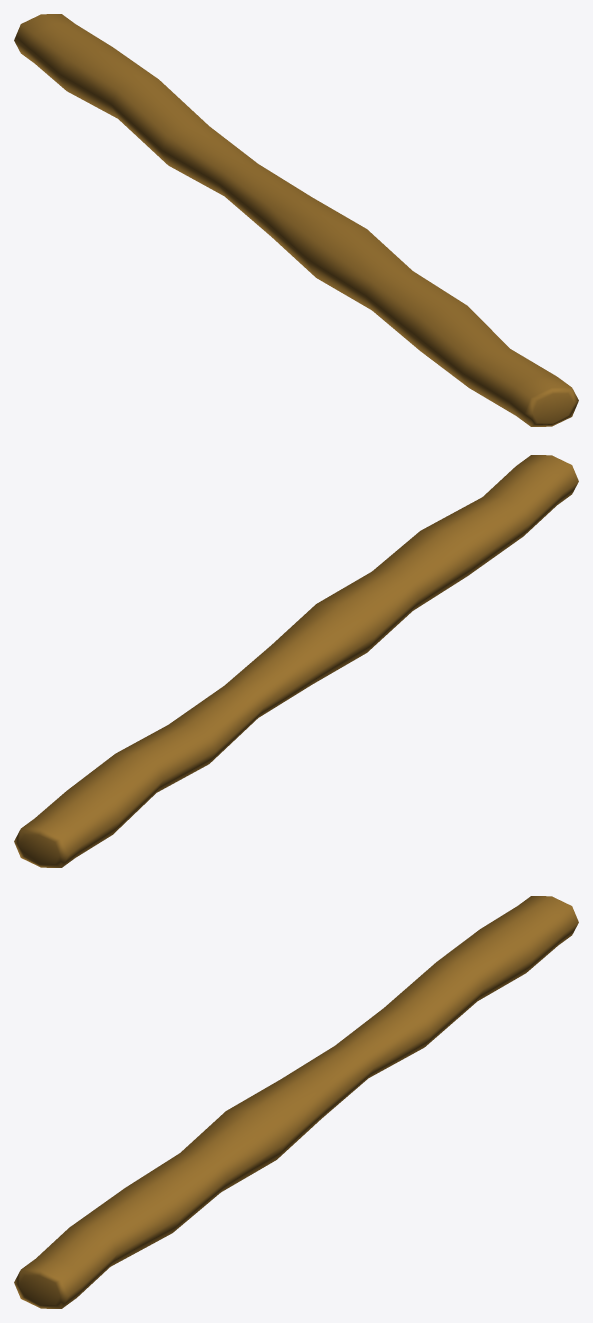
The model's file is 1-vine.fbx.
The picture shows the model from 3 angles, top to bottom: view 1: azimuth 30°, elevation 25°; view 2: azimuth 150°, elevation 25°; view 3: azimuth 330°, elevation 25°; orthographic projection.
Parts seen in each view (by area): view 1: pCube1; view 2: pCube1; view 3: pCube1.
Boxes of the visible parts, bbox=[...] form: pCube1: bbox=[14, 14, 578, 426]; pCube1: bbox=[14, 455, 578, 867]; pCube1: bbox=[14, 896, 578, 1308].
Size of the model in its own units: 4.27 by 2.91 by 56.09.
